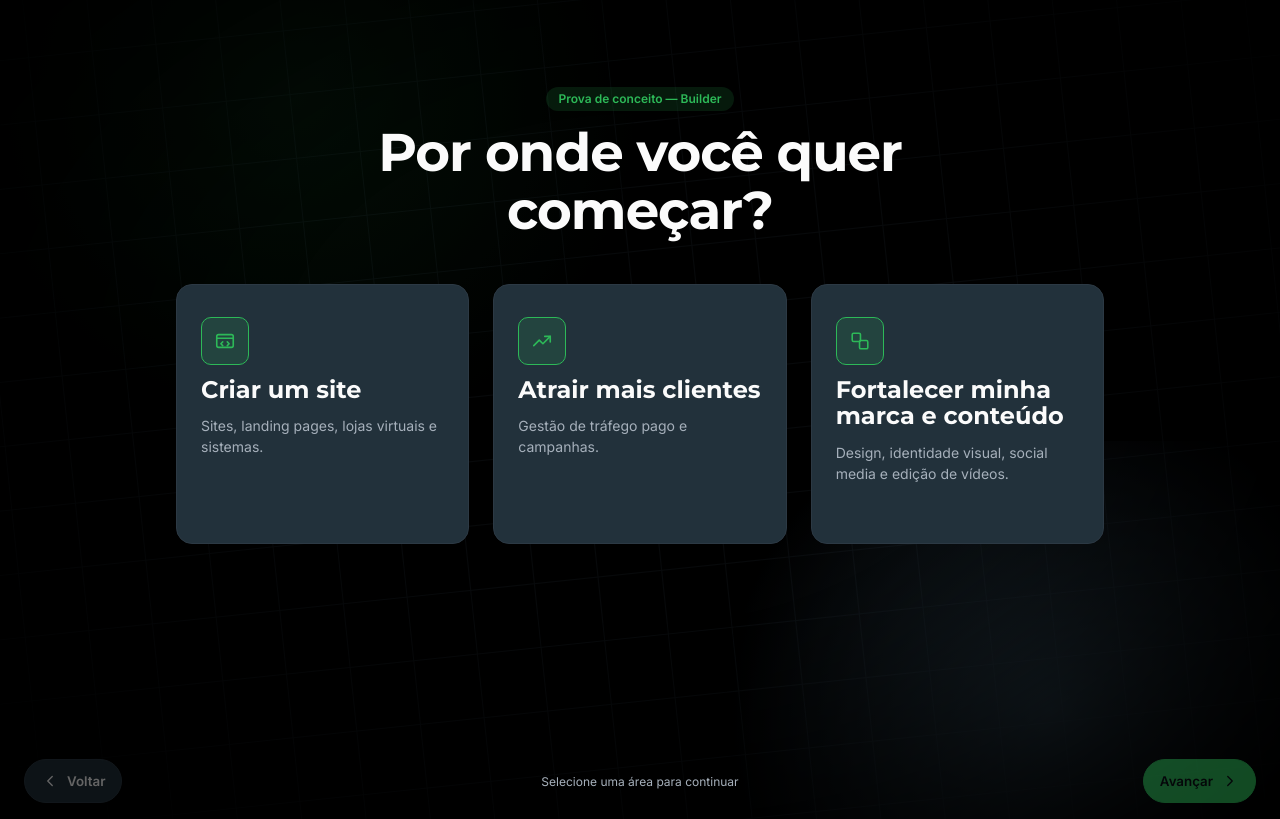
Test case: BuilderExperiencePoc (Prova de Conceito — Builder) › Voltar retorna à Cena 1 mantendo a escolha anterior selecionada
Step 1. Click the button "Criar um site" → (225, 340), box 176,283 -> 469,543
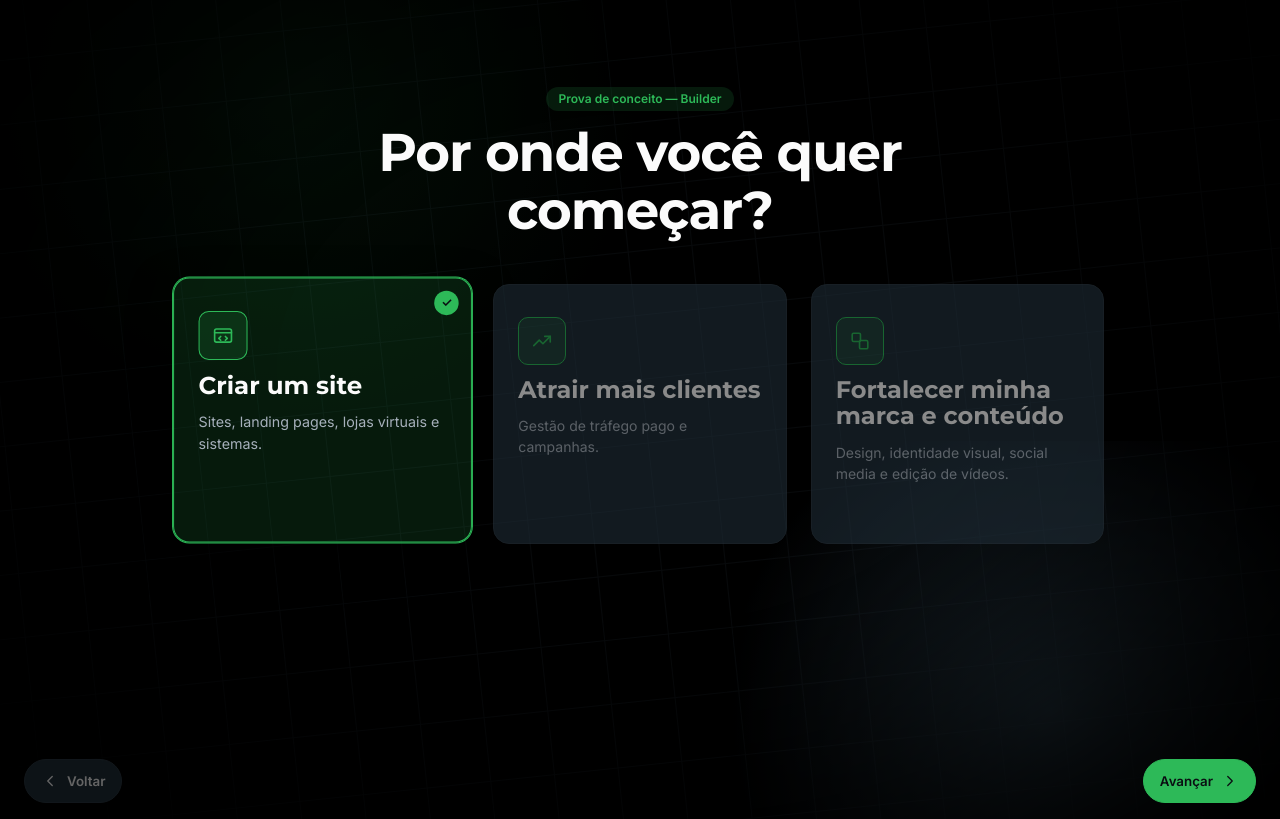
Step 2. Click the button with aria-label "Avançar para a próxima cena" → (1199, 781), box 1143,759 -> 1256,803
(page scrolled)
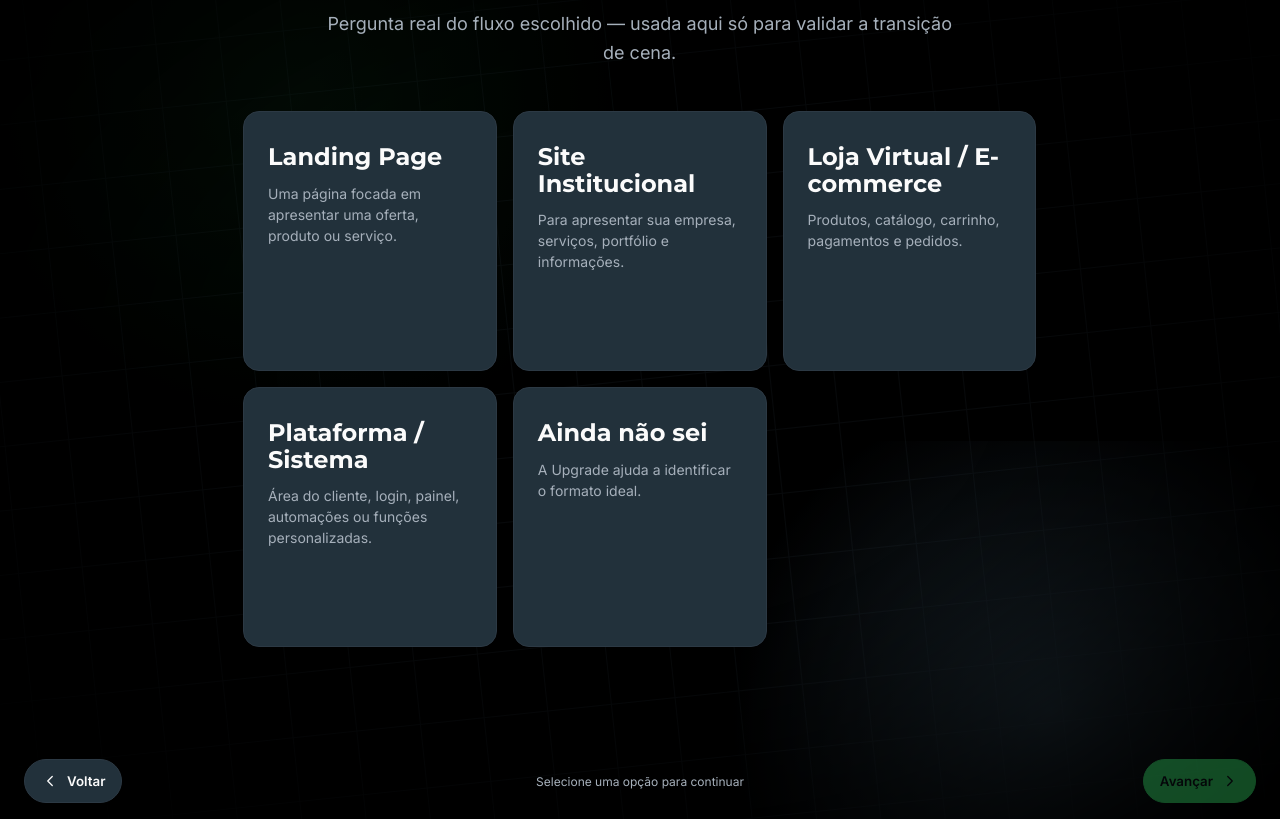
Step 3. Click the button with aria-label "Voltar para a cena anterior" → (73, 782), box 24,760 -> 122,804
(page scrolled)
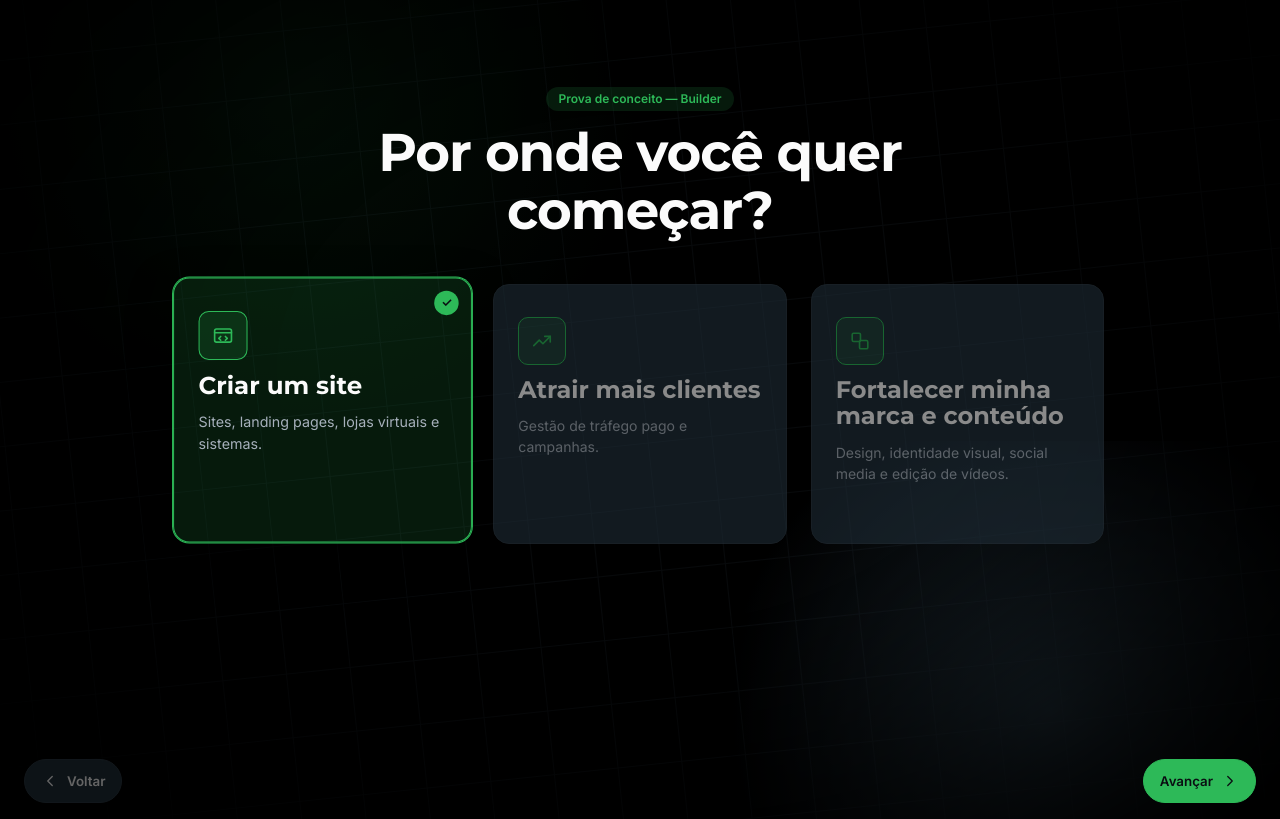
Expected: the heading "Por onde você quer começar?" is shown, 378,120 -> 902,242
